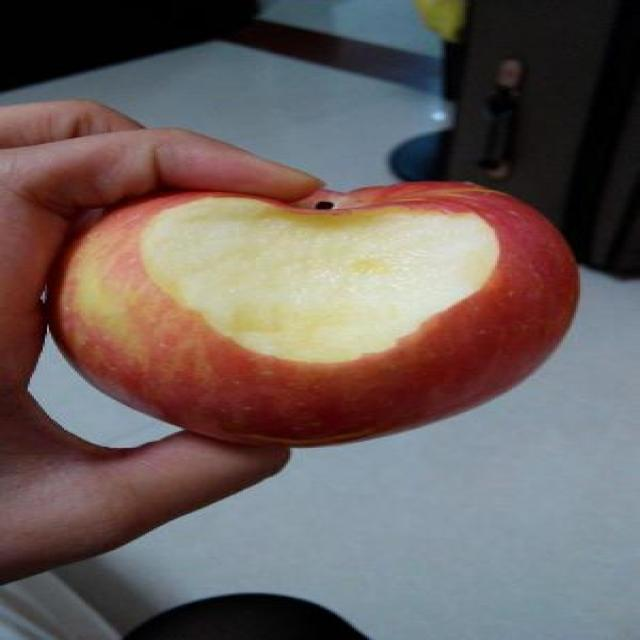Apple: (47, 175, 587, 455)
